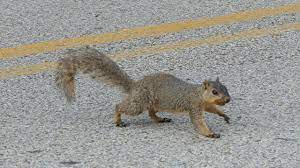squirrel: (54, 44, 234, 138)
